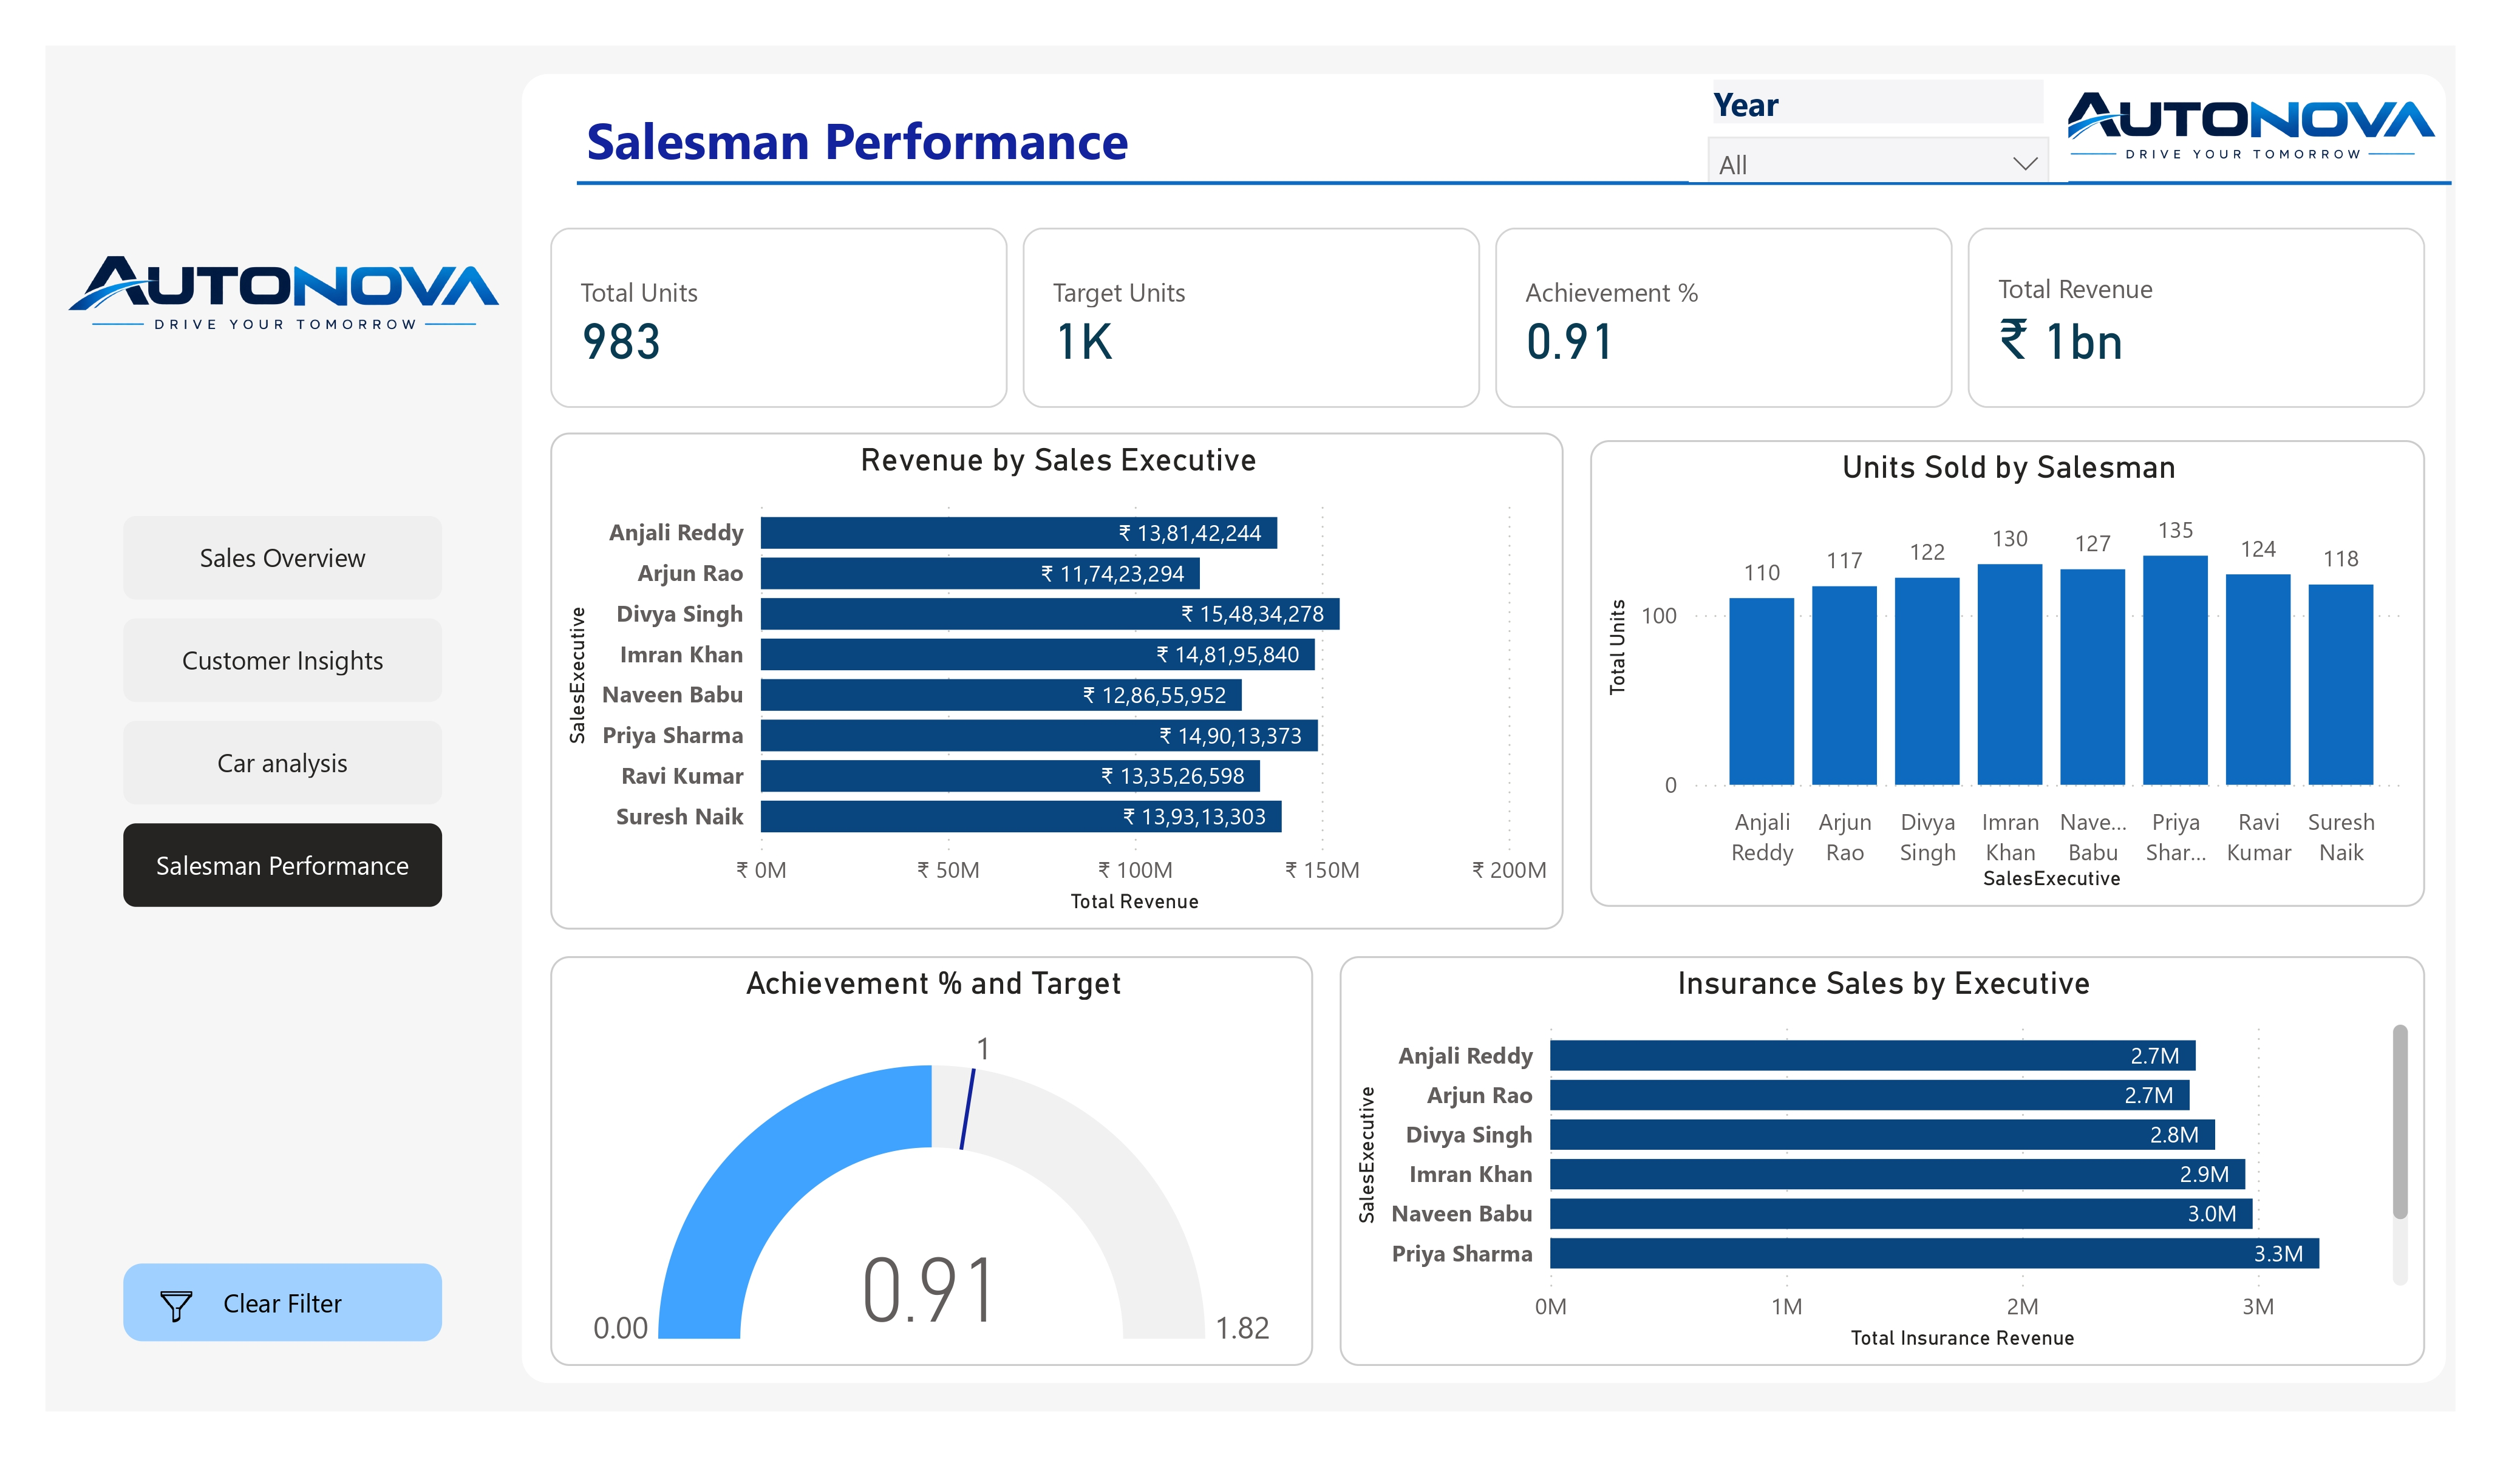

This screenshot's page, from the dashboard's own definition file:
{"tool":"powerbi","page":{"name":"Salesman Performance","canvas":[1280,720],"ordinal":3},"visuals":[{"type":"shape","box":[0,0,1270.1,720.2],"z":0},{"type":"shape","box":[236,0,1044,720],"z":1000},{"type":"image","box":[1045.3,0,224.5,84.6],"z":2000},{"type":"shape","box":[279.8,0,988.2,145.5],"z":3000},{"type":"image","box":[0,0,251.3,260.8],"z":4000},{"type":"textbox","box":[280,26,332,58],"z":5000},{"type":"cardVisual","fields":{"Data":["_Measures.Total Units","_Measures.Target Units","_Measures.Achievement %","_Measures.Total Revenue (OnRoad)"]},"box":[265.7,83.5,989,119.6],"z":6000},{"type":"clusteredBarChart","title":"Revenue by Sales Executive","fields":{"Category":["Salesperson.SalesExecutive"],"Y":["_Measures.Total Revenue (OnRoad)"]},"box":[266,204,534,262],"z":7000},{"type":"pageNavigator","box":[40.7,248.1,168.5,205.5],"z":8000},{"type":"actionButton","box":[40.7,642.5,168.5,40.7],"z":9000},{"type":"image","box":[40.7,653.6,55.5,20.4],"z":10000},{"type":"clusteredColumnChart","title":"Units Sold by Salesman","fields":{"Category":["Sales.SalesExecutive"],"Y":["_Measures.Total Units"]},"box":[814,208,440,246],"z":11000},{"type":"gauge","fields":{"TargetValue":["_Measures.Target"],"Y":["_Measures.Achievement %"]},"box":[266,480,402,216],"z":12000},{"type":"clusteredBarChart","title":"Insurance Sales by Executive","fields":{"Category":["Salesperson.SalesExecutive"],"Y":["_Measures.Total Insurance Revenue"]},"box":[682,480,572,216],"z":13000},{"type":"slicer","fields":{"Values":["Date.Year","Sales.DeliveryDate.Variation.Date Hierarchy.Month"]},"box":[865.6,17.8,200,54.4],"z":14000}]}

Visuals, with their boxes on the page's 1280x720 design canvas (x1, y1, x2, y2). These are canvas units, not pixel positions in the 2520x1457 screenshot, which may show the page scaled, cropped or inside an application window:
shape: {"left": 0, "top": 0, "right": 1270, "bottom": 720}
shape: {"left": 236, "top": 0, "right": 1280, "bottom": 720}
image: {"left": 1045, "top": 0, "right": 1270, "bottom": 85}
shape: {"left": 280, "top": 0, "right": 1268, "bottom": 146}
image: {"left": 0, "top": 0, "right": 251, "bottom": 261}
textbox: {"left": 280, "top": 26, "right": 612, "bottom": 84}
cardVisual - _Measures.Total Units x _Measures.Target Units: {"left": 266, "top": 84, "right": 1255, "bottom": 203}
"Revenue by Sales Executive" clusteredBarChart: {"left": 266, "top": 204, "right": 800, "bottom": 466}
pageNavigator: {"left": 41, "top": 248, "right": 209, "bottom": 454}
actionButton: {"left": 41, "top": 642, "right": 209, "bottom": 683}
image: {"left": 41, "top": 654, "right": 96, "bottom": 674}
"Units Sold by Salesman" clusteredColumnChart: {"left": 814, "top": 208, "right": 1254, "bottom": 454}
gauge - _Measures.Target x _Measures.Achievement %: {"left": 266, "top": 480, "right": 668, "bottom": 696}
"Insurance Sales by Executive" clusteredBarChart: {"left": 682, "top": 480, "right": 1254, "bottom": 696}
slicer - Date.Year x Sales.DeliveryDate.Variation.Date Hierarchy.Month: {"left": 866, "top": 18, "right": 1066, "bottom": 72}
